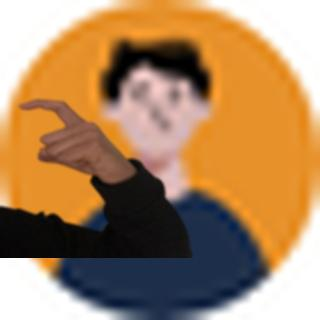WHY: (11, 90, 133, 181)
